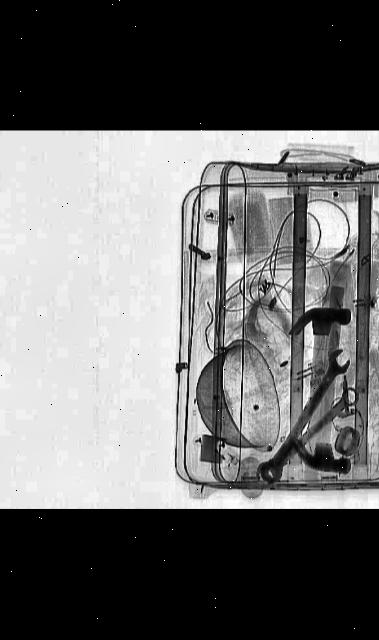Wrench: (247, 347, 356, 486), (246, 386, 363, 486)
